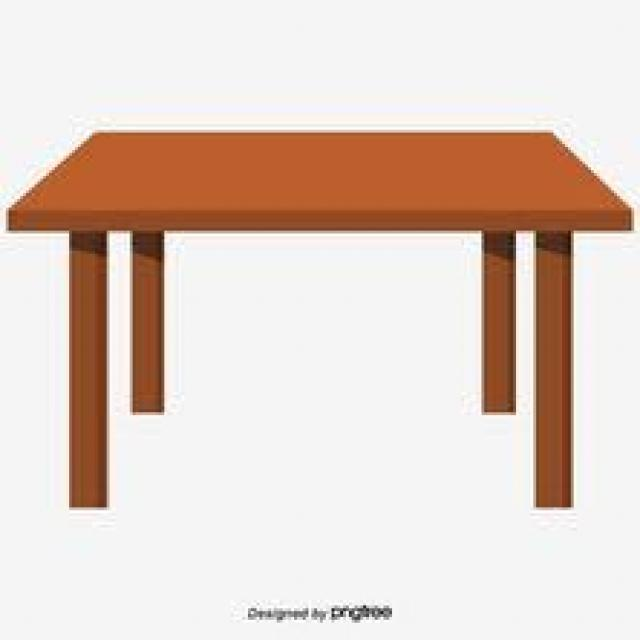Table: (6, 121, 640, 538)
